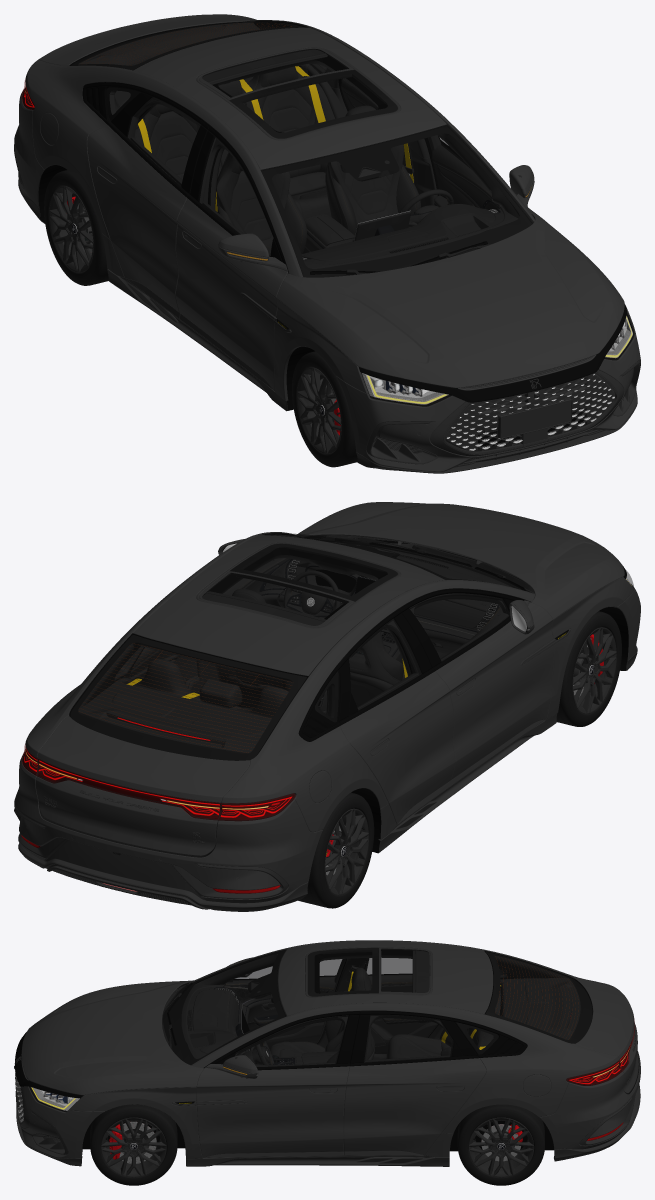
Rendered from 2023_byd_han_dm-p.opt.glb.
3 views of the same model, one above another, from view 1: azimuth 30°, elevation 25°; view 2: azimuth 150°, elevation 25°; view 3: azimuth 270°, elevation 25° (orthographic). The views are drawn at different scales.
Parts seen in each view (by area): view 1: BYDobj:SK_Hood_101_007_SK_Hood_101_007_dummy_material_0_364_, BYDobj:SM_Body_101_SM_Body_101_dummy_material_0_344, BYDobj:SM_Fender_B_101_SM_Fender_B_101_dummy_material_0_361_, BYDobj:SK_Door_FR_101_005_SK_Door_FR_101_005_dummy_material_ (×4), BYDobj:SK_Door_BR_101_002_SK_Door_BR_101_002_dummy_material_ (×4), BYDobj:SM_Bumper_F_101_SM_Bumper_F_101_dummy_material_0_347_, BYDobj:SM_Roof_101_SM_Roof_101_dummy_material_0_373, BYDobj:SM_Body_101_SM_Body_101_dummy_material_0_353, BYDobj:SM_Body_101_SM_Body_101_dummy_material_0_349, BYDobj:SM_Body_101_SM_Body_101_dummy_material_0_343_BYDobj:d, BYDobj:SM_Bumper_F_101_SM_Bumper_F_101_dummy_material_0_349_, BYDobj:SM_Body_101_SM_Body_101_dummy_material_0_350 (+19 smaller); view 2: BYDobj:SM_Fender_B_101_SM_Fender_B_101_dummy_material_0_361_, BYDobj:SM_Body_101_SM_Body_101_dummy_material_0_344, BYDobj:SK_Trunk_101_007_SK_Trunk_101_007_dummy_material_0_38 (×3), BYDobj:SK_Door_FR_101_005_SK_Door_FR_101_005_dummy_material_ (×4), BYDobj:SK_Door_BR_101_002_SK_Door_BR_101_002_dummy_material_ (×4), BYDobj:SK_Hood_101_007_SK_Hood_101_007_dummy_material_0_364_, BYDobj:SM_Bumper_B_101_SM_Bumper_B_101_dummy_material_0_347_, BYDobj:SM_Body_101_SM_Body_101_dummy_material_0_349, BYDobj:SM_Roof_101_SM_Roof_101_dummy_material_0_373, BYDobj:SM_Body_101_SM_Body_101_dummy_material_0_343_BYDobj:d, BYDobj:SM_Bumper_B_101_SM_Bumper_B_101_dummy_material_0_346_, BYDobj:SM_Body_101_SM_Body_101_dummy_material_0_342_Metal_Ca (+18 smaller); view 3: BYDobj:SK_Door_FL_101_006_SK_Door_FL_101_006_dummy_material_ (×4), BYDobj:SM_Fender_B_101_SM_Fender_B_101_dummy_material_0_361_, BYDobj:SK_Door_BL_101_002_SK_Door_BL_101_002_dummy_material_ (×4), BYDobj:SK_Hood_101_007_SK_Hood_101_007_dummy_material_0_364_, BYDobj:SM_Body_101_SM_Body_101_dummy_material_0_344, BYDobj:SM_Body_101_SM_Body_101_dummy_material_0_349, BYDobj:SM_Body_101_SM_Body_101_dummy_material_0_343_BYDobj:d, BYDobj:SM_Roof_101_SM_Roof_101_dummy_material_0_373, BYDobj:SM_Body_101_SM_Body_101_dummy_material_0_342_Metal_Ca, BYDobj:SM_Bumper_B_101_SM_Bumper_B_101_dummy_material_0_347_, BYDobj:SK_Trunk_101_007_SK_Trunk_101_007_dummy_material_0_38, BYDobj:SM_Body_101_SM_Body_101_dummy_material_0_350 (+23 smaller).
Part boxes in pixels (x1=…): BYDobj:SK_Hood_101_007_SK_Hood_101_007_dummy_material_0_364_: x1=276, y1=213, x2=624, y2=387; BYDobj:SM_Body_101_SM_Body_101_dummy_material_0_344: x1=70, y1=21, x2=531, y2=277; BYDobj:SM_Fender_B_101_SM_Fender_B_101_dummy_material_0_361_: x1=25, y1=14, x2=534, y2=277; BYDobj:SK_Door_FR_101_005_SK_Door_FR_101_005_dummy_material_ (×4): x1=175, y1=125, x2=289, y2=390; BYDobj:SK_Door_BR_101_002_SK_Door_BR_101_002_dummy_material_ (×4): x1=87, y1=89, x2=209, y2=318; BYDobj:SM_Bumper_F_101_SM_Bumper_F_101_dummy_material_0_347_: x1=356, y1=304, x2=640, y2=473; BYDobj:SM_Roof_101_SM_Roof_101_dummy_material_0_373: x1=202, y1=49, x2=397, y2=138; BYDobj:SM_Body_101_SM_Body_101_dummy_material_0_353: x1=140, y1=67, x2=403, y2=248; BYDobj:SM_Body_101_SM_Body_101_dummy_material_0_349: x1=78, y1=22, x2=519, y2=251; BYDobj:SM_Body_101_SM_Body_101_dummy_material_0_343_BYDobj:d: x1=69, y1=21, x2=532, y2=277; BYDobj:SM_Bumper_F_101_SM_Bumper_F_101_dummy_material_0_349_: x1=336, y1=328, x2=640, y2=471; BYDobj:SM_Body_101_SM_Body_101_dummy_material_0_350: x1=134, y1=65, x2=495, y2=261; BYDobj:SM_Fender_B_101_SM_Fender_B_101_dummy_material_0_361_: x1=25, y1=532, x2=534, y2=839; BYDobj:SM_Body_101_SM_Body_101_dummy_material_0_344: x1=70, y1=533, x2=531, y2=760; BYDobj:SK_Trunk_101_007_SK_Trunk_101_007_dummy_material_0_38 (×3): x1=35, y1=716, x2=250, y2=855; BYDobj:SK_Door_FR_101_005_SK_Door_FR_101_005_dummy_material_ (×4): x1=398, y1=588, x2=554, y2=785; BYDobj:SK_Door_BR_101_002_SK_Door_BR_101_002_dummy_material_ (×4): x1=338, y1=609, x2=455, y2=824; BYDobj:SK_Hood_101_007_SK_Hood_101_007_dummy_material_0_364_: x1=296, y1=502, x2=624, y2=619; BYDobj:SM_Bumper_B_101_SM_Bumper_B_101_dummy_material_0_347_: x1=14, y1=749, x2=322, y2=903; BYDobj:SM_Body_101_SM_Body_101_dummy_material_0_349: x1=78, y1=534, x2=487, y2=753; BYDobj:SM_Roof_101_SM_Roof_101_dummy_material_0_373: x1=202, y1=543, x2=397, y2=625; BYDobj:SM_Body_101_SM_Body_101_dummy_material_0_343_BYDobj:d: x1=69, y1=533, x2=528, y2=760; BYDobj:SM_Bumper_B_101_SM_Bumper_B_101_dummy_material_0_346_: x1=14, y1=808, x2=308, y2=911; BYDobj:SM_Body_101_SM_Body_101_dummy_material_0_342_Metal_Ca: x1=106, y1=542, x2=512, y2=744; BYDobj:SK_Door_FL_101_006_SK_Door_FL_101_006_dummy_material_ (×4): x1=196, y1=1011, x2=360, y2=1158; BYDobj:SM_Fender_B_101_SM_Fender_B_101_dummy_material_0_361_: x1=189, y1=940, x2=619, y2=1157; BYDobj:SK_Door_BL_101_002_SK_Door_BL_101_002_dummy_material_ (×4): x1=343, y1=1010, x2=486, y2=1155; BYDobj:SK_Hood_101_007_SK_Hood_101_007_dummy_material_0_364_: x1=21, y1=980, x2=203, y2=1095; BYDobj:SM_Body_101_SM_Body_101_dummy_material_0_344: x1=163, y1=950, x2=592, y2=1064; BYDobj:SM_Body_101_SM_Body_101_dummy_material_0_349: x1=195, y1=954, x2=580, y2=1063; BYDobj:SM_Body_101_SM_Body_101_dummy_material_0_343_BYDobj:d: x1=82, y1=949, x2=592, y2=1151; BYDobj:SM_Roof_101_SM_Roof_101_dummy_material_0_373: x1=308, y1=948, x2=429, y2=996; BYDobj:SM_Body_101_SM_Body_101_dummy_material_0_342_Metal_Ca: x1=181, y1=950, x2=572, y2=1064; BYDobj:SM_Bumper_B_101_SM_Bumper_B_101_dummy_material_0_347_: x1=539, y1=1050, x2=640, y2=1149; BYDobj:SK_Trunk_101_007_SK_Trunk_101_007_dummy_material_0_38: x1=575, y1=978, x2=638, y2=1093; BYDobj:SM_Body_101_SM_Body_101_dummy_material_0_350: x1=192, y1=967, x2=500, y2=1063.
Size of the model in its own units: 0.0212 by 0.0148 by 0.0497.
17 materials, 11 textured.
